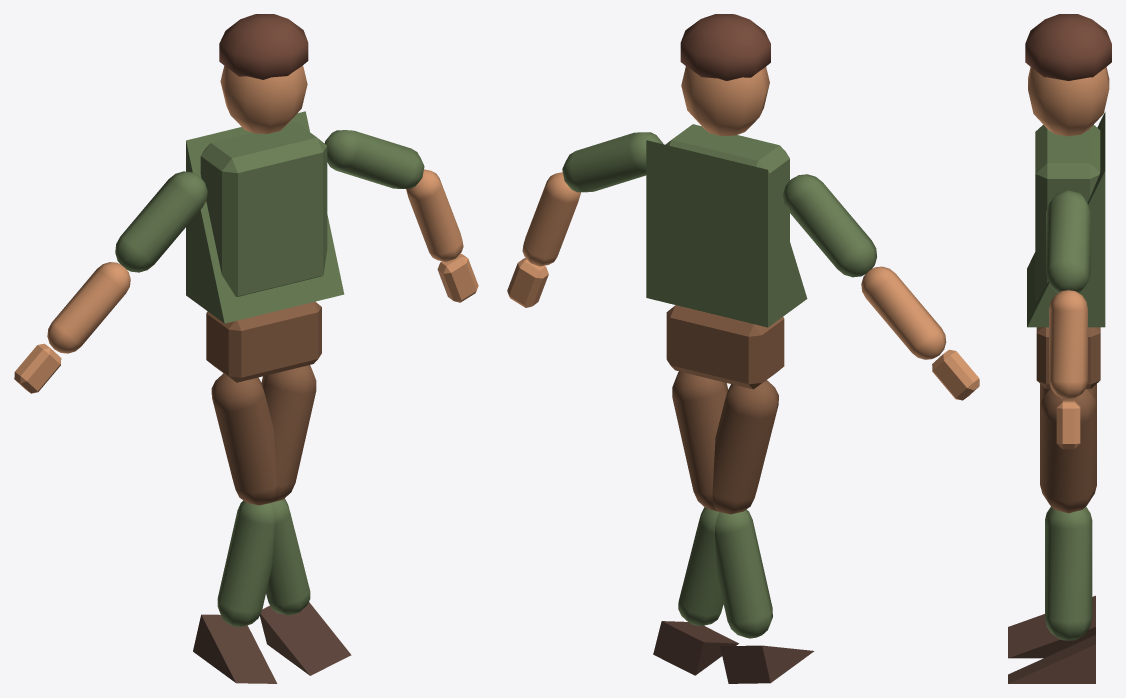
File: browser-adventurer-final.glb
3 views of the same model, side by side, from view 1: azimuth 30°, elevation 25°; view 2: azimuth 150°, elevation 25°; view 3: azimuth 270°, elevation 25° (orthographic).
Parts seen in each view (by area): view 1: torso, tunic, pelvis, thigh.left, shin.right, upper-arm.left, hair, thigh.right, head, upper-arm.right, forearm.left, foot.left (+5 smaller); view 2: tunic, pelvis, thigh.left, shin.right, upper-arm.left, hair, thigh.right, head, forearm.left, upper-arm.right, torso, shin.left (+5 smaller); view 3: shin.left, thigh.right, torso, hair, upper-arm.right, tunic, head, forearm.right, foot.left, foot.right, pelvis, hand.right (+1 smaller).
Part boxes in pixels (x1,y1,x2,y2): torso: (200, 122, 327, 296); tunic: (186, 111, 344, 323); pelvis: (206, 301, 321, 382); thigh.left: (211, 373, 276, 505); shin.right: (217, 500, 274, 627); upper-arm.left: (115, 171, 207, 272); hair: (219, 14, 308, 79); thigh.right: (261, 365, 316, 502); head: (220, 65, 307, 133); upper-arm.right: (324, 130, 424, 188); forearm.left: (47, 262, 130, 353); foot.left: (260, 602, 351, 675); tunic: (646, 140, 807, 327); pelvis: (666, 305, 784, 389); thigh.left: (712, 380, 778, 514); shin.right: (714, 509, 772, 638); upper-arm.left: (783, 174, 876, 277); hair: (680, 14, 770, 80); thigh.right: (672, 371, 728, 511); head: (681, 66, 769, 135); forearm.left: (861, 266, 946, 359); upper-arm.right: (562, 132, 663, 192); torso: (665, 124, 789, 240); shin.left: (678, 507, 723, 626); shin.left: (1045, 507, 1092, 640); thigh.right: (1040, 389, 1096, 513); torso: (1035, 124, 1100, 299); hair: (1025, 14, 1111, 80); upper-arm.right: (1046, 190, 1090, 292); tunic: (1027, 112, 1105, 327); head: (1028, 67, 1109, 136); forearm.right: (1049, 290, 1087, 399); foot.left: (1008, 635, 1095, 683); foot.right: (1008, 595, 1095, 658); pelvis: (1036, 327, 1100, 388); hand.right: (1056, 400, 1080, 449).
Bounding box in the file's own units: 2.26 × 3.01 × 0.4376.
